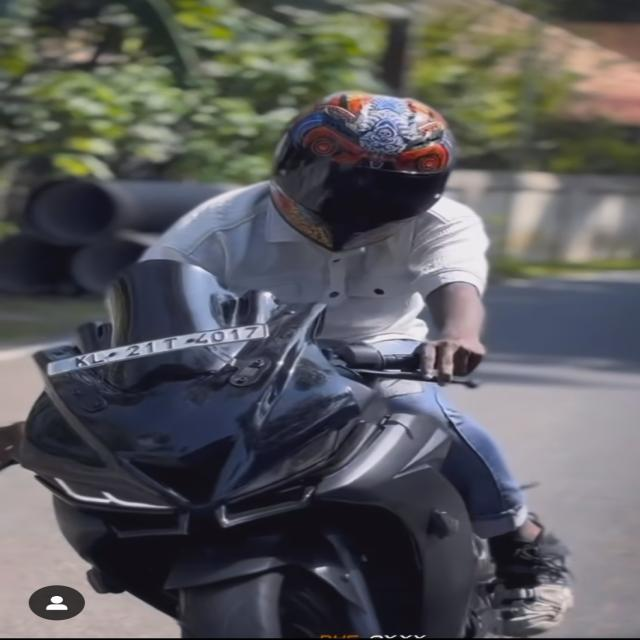Numberplate: (55, 328, 266, 378)
bike: (41, 248, 573, 640)
helmet: (281, 86, 471, 245)
